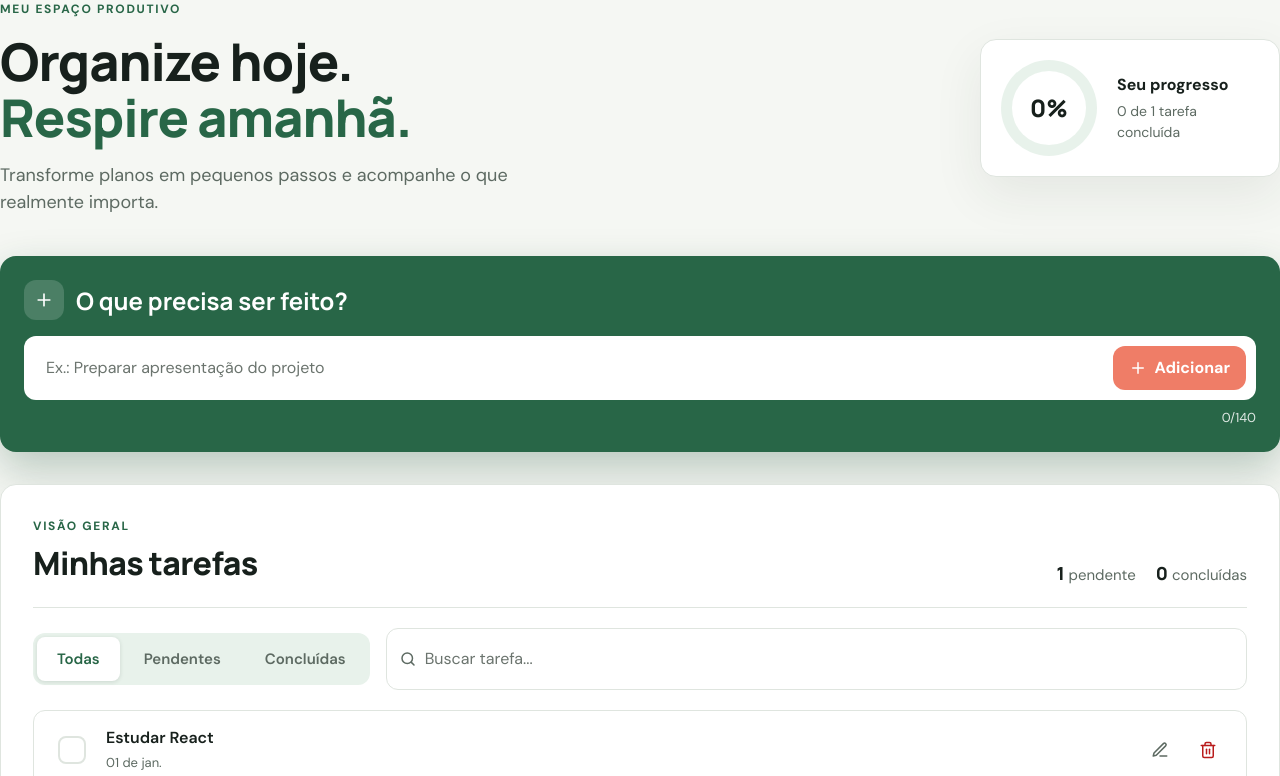
Test: TasksPage — filtro sem resultados › exibe o estado de nenhuma concluída ao filtrar concluídas com só pendentes
This screenshot has width=1280, height=776.
Click the button "Concluídas".
click(305, 659)  # box [245, 637, 366, 681]
(page scrolled)
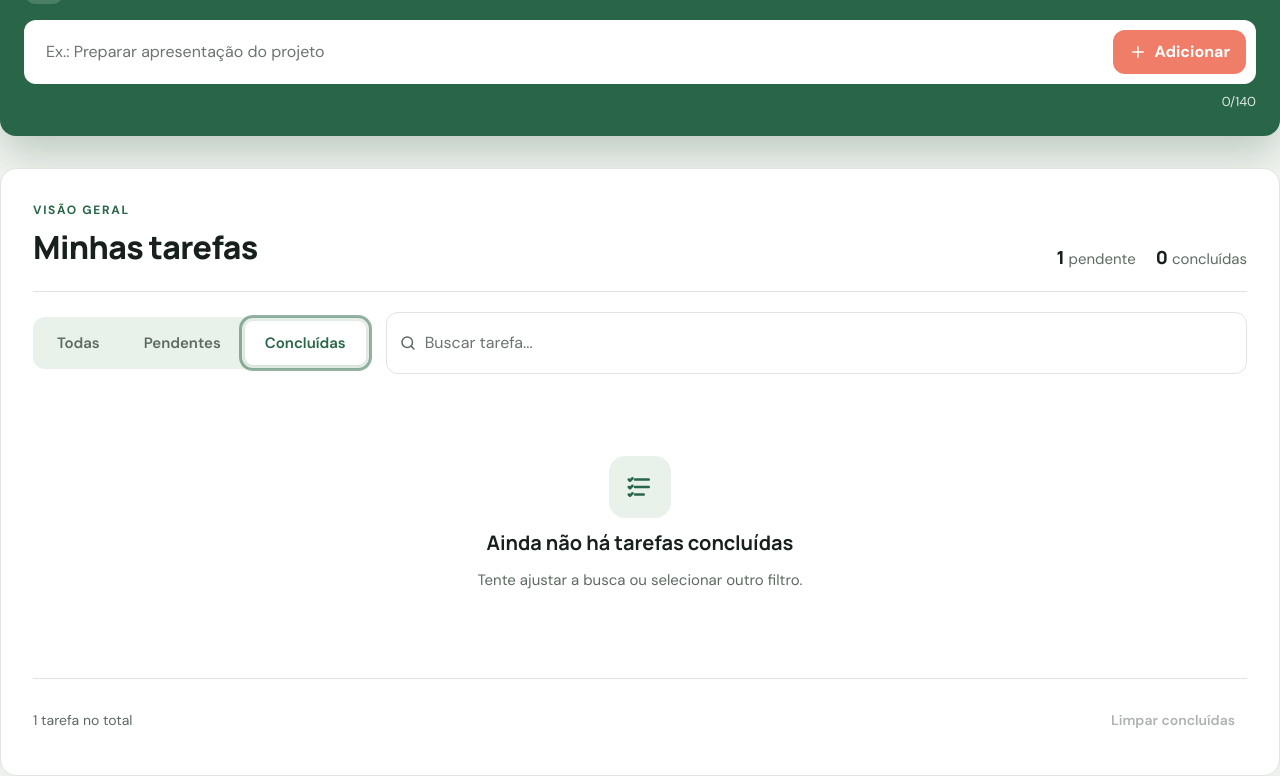
Now the heading "Ainda não há tarefas concluídas" is shown, box [487, 530, 793, 556]
